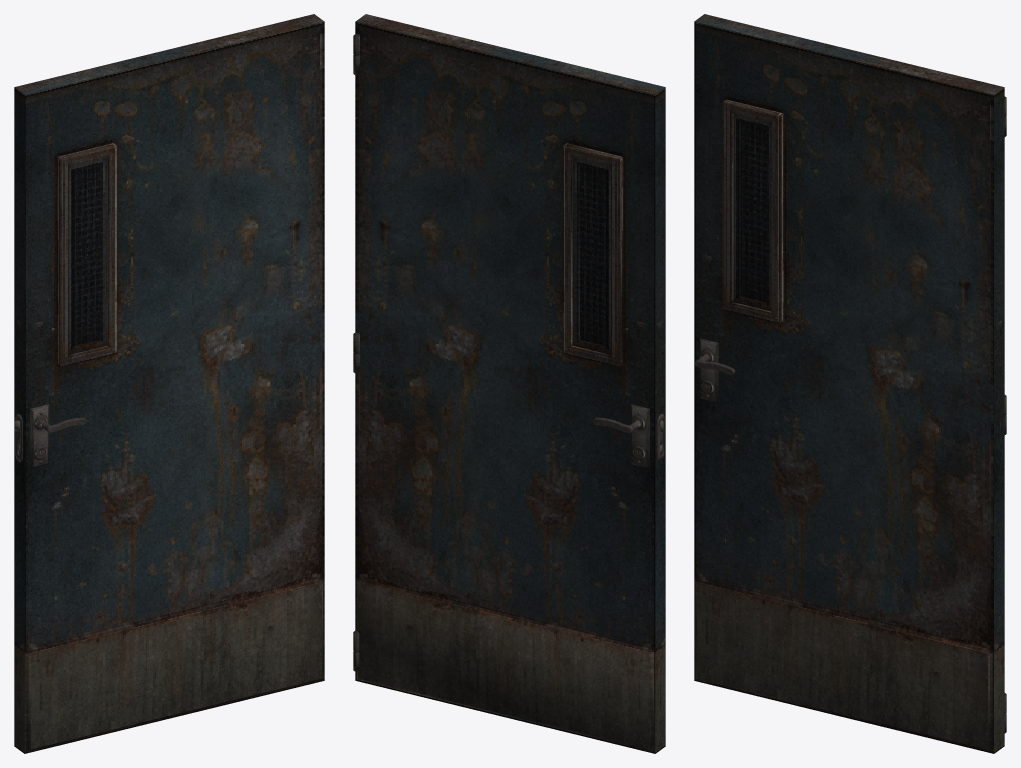
File: door_3.glb
3 renders of one model, left to right at view 1: azimuth 30°, elevation 25°; view 2: azimuth 150°, elevation 25°; view 3: azimuth 330°, elevation 25°, orthographic.
Parts seen in each view (by area): view 1: door_3; view 2: door_3; view 3: door_3.
Part boxes in pixels (box(x1,y1,x2,y2)): door_3: box(14, 14, 324, 753); door_3: box(353, 14, 665, 753); door_3: box(694, 14, 1006, 753).
Bounding box in the file's own units: 1.01 × 2.1 × 0.194.
4 materials, 4 textured.
